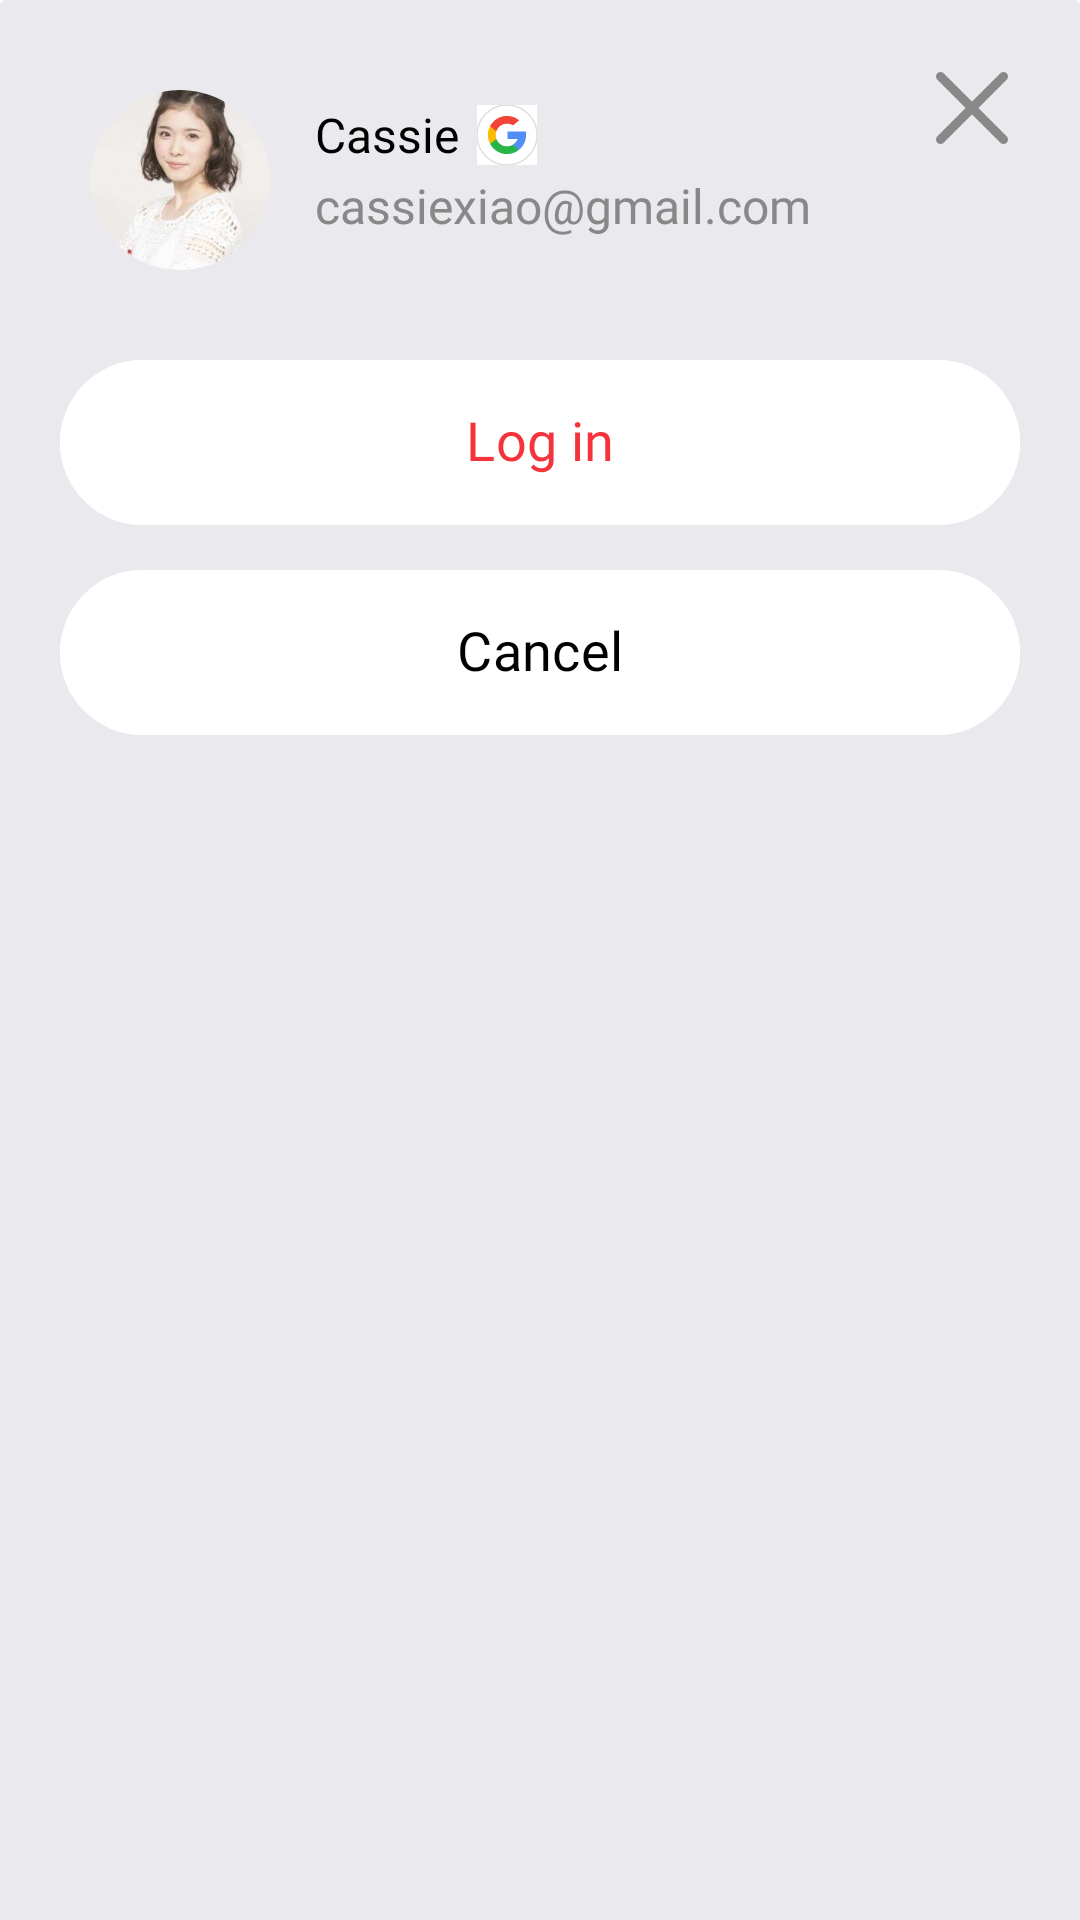

Screen size 1080px x 1920px. Icon name, then its center in pixels as [x,y]:
cancel: [972,108]
